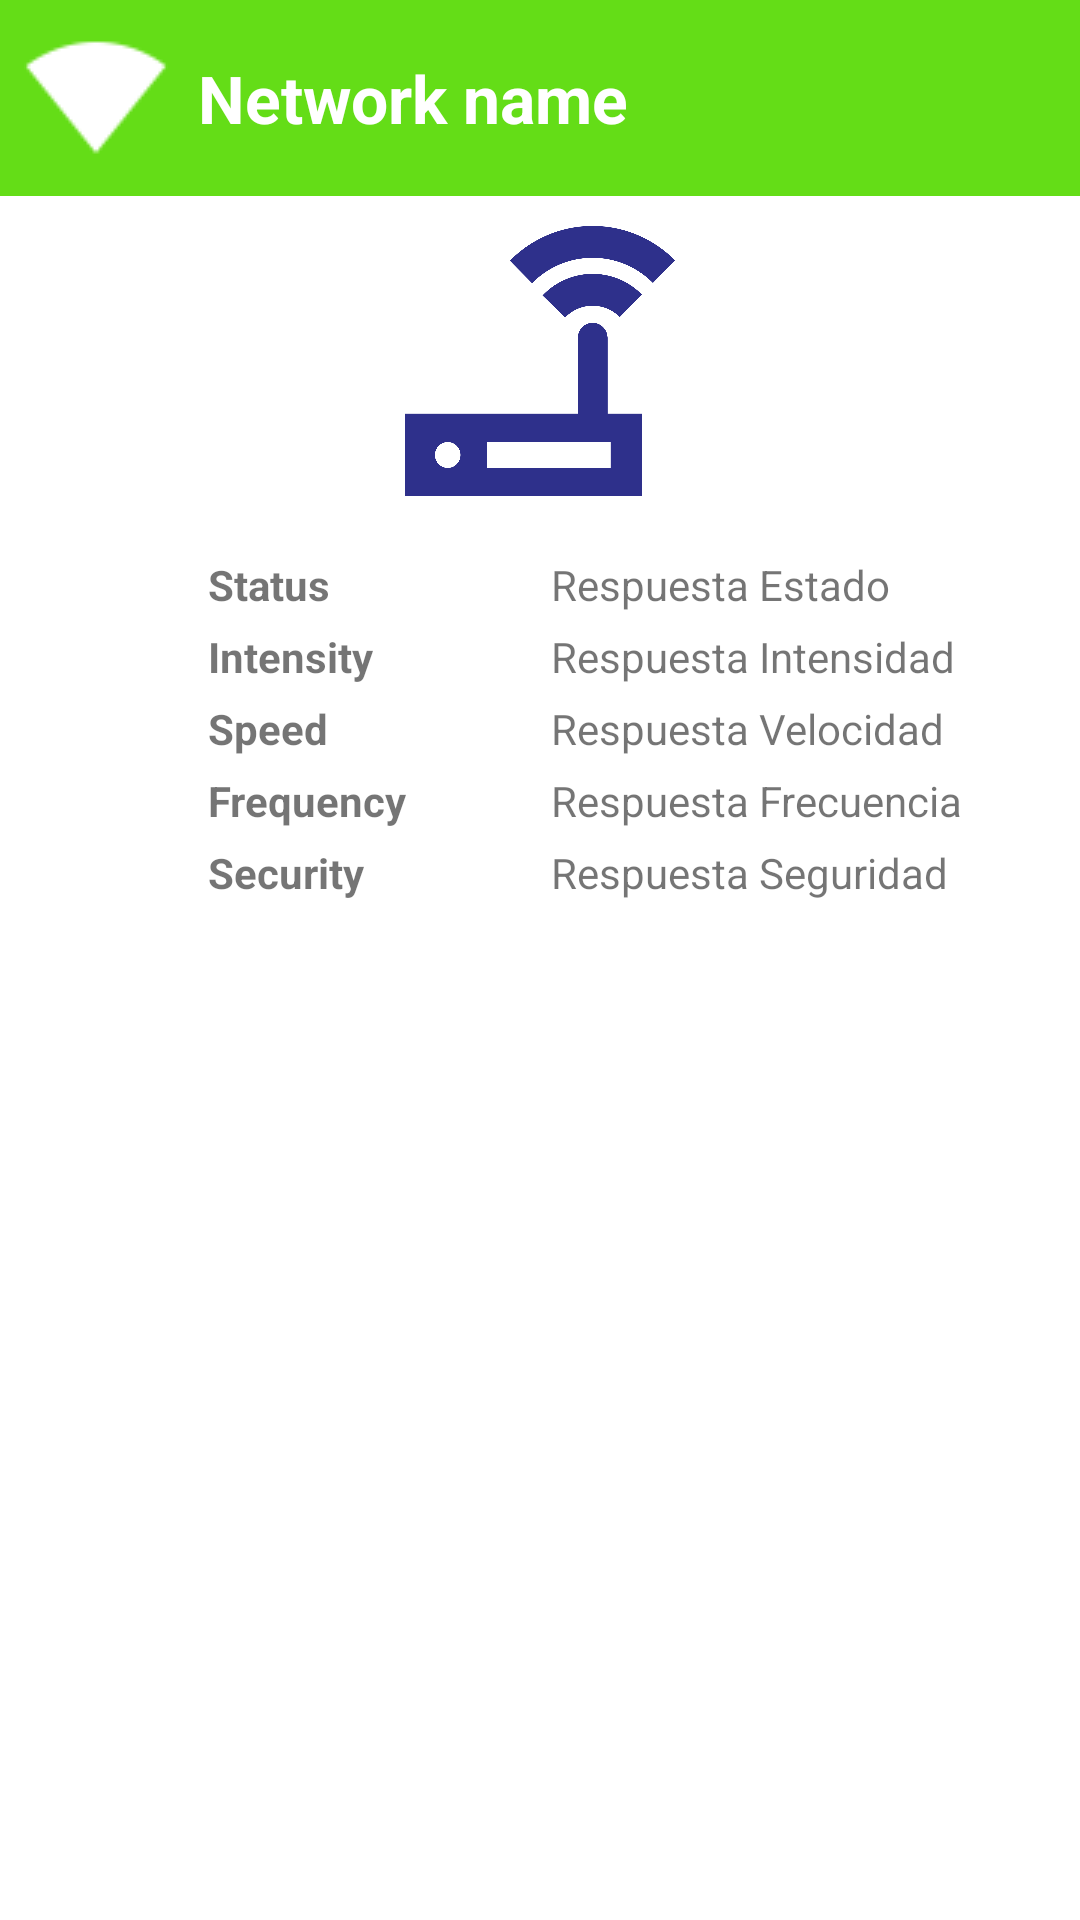

Icon click points for this 1080 × 1920 phone screenshot, format (x=x, y=y):
router: (x=540, y=361)
wifi blanco: (x=96, y=97)
